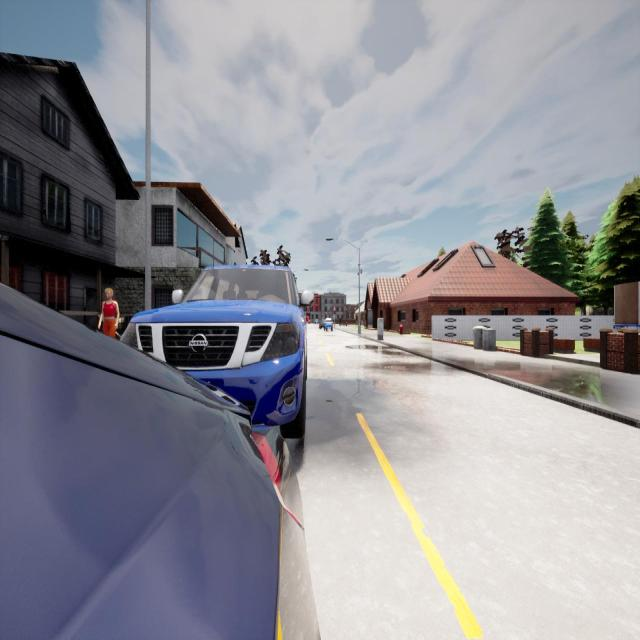Pedestrian: (99, 288, 119, 337)
Vehicle: (0, 287, 319, 638), (121, 265, 304, 438), (324, 318, 333, 332), (319, 320, 324, 330), (306, 316, 310, 324), (314, 319, 319, 325)
traffic_light: (334, 310, 335, 314)
